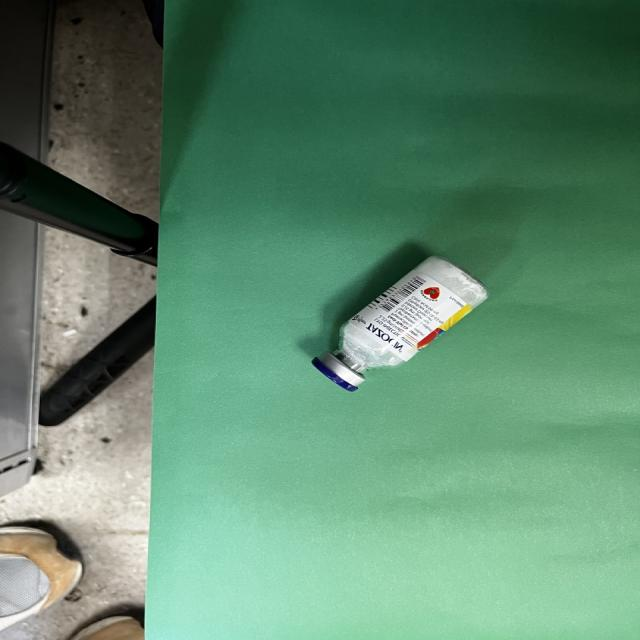Vials: (311, 254, 489, 392)
